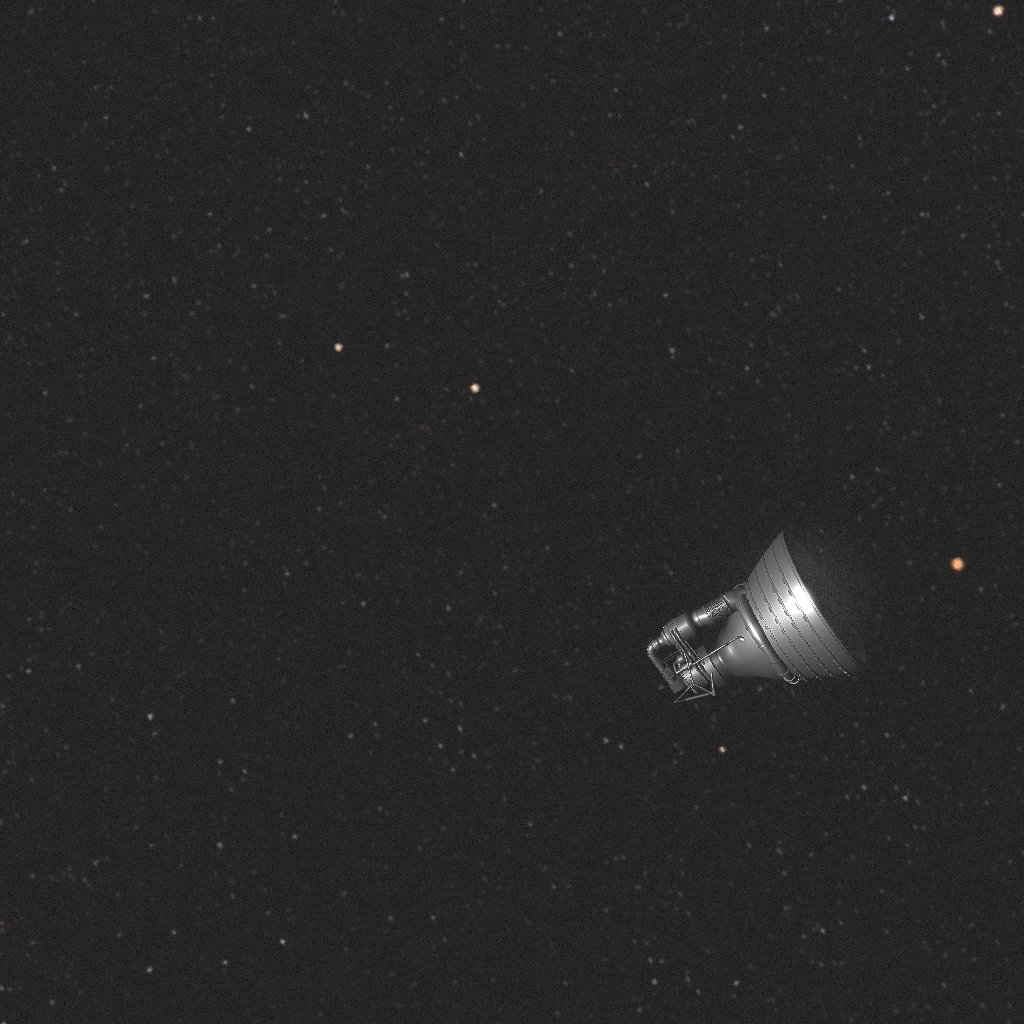debris: (647, 529, 870, 703)
